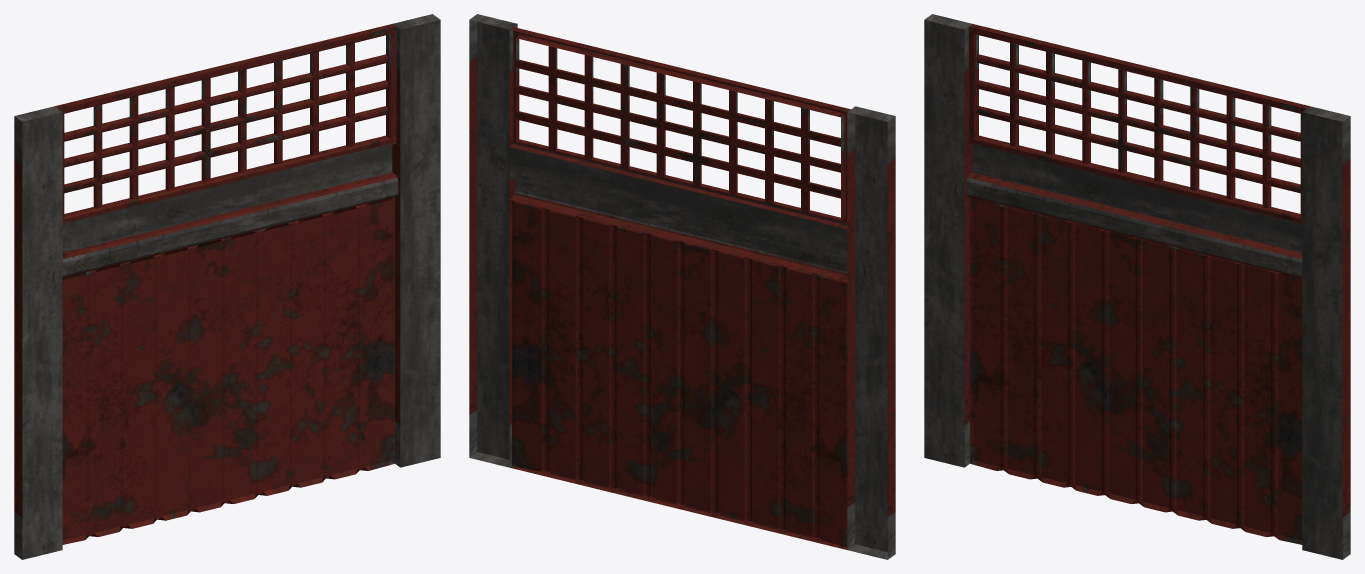
File: Wall_SteelWIN.fbx
3 renders of one model, left to right at view 1: azimuth 30°, elevation 25°; view 2: azimuth 150°, elevation 25°; view 3: azimuth 330°, elevation 25°, orthographic.
Visible parts, largest first — view 1: Wall; view 2: Wall; view 3: Wall.
Boxes of the visible parts, box(x1,y1,x2,y2) form: Wall: box(14, 14, 440, 559); Wall: box(469, 14, 895, 559); Wall: box(924, 14, 1350, 559).
Size of the model in its own units: 919 by 919 by 30.57.
Materials: 1 (1 with a texture image).
